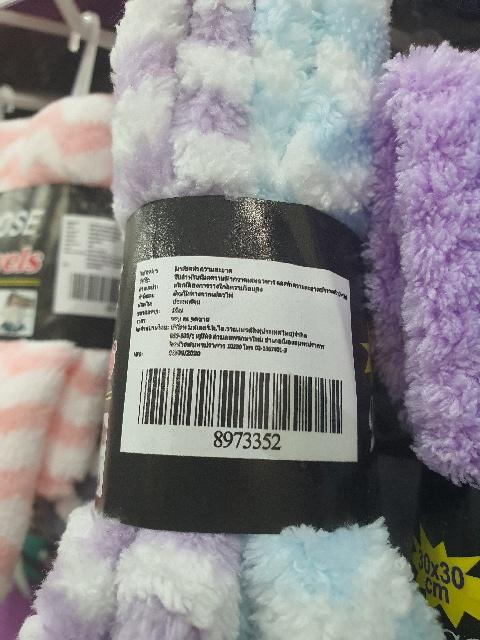Barcode: (131, 360, 350, 452)
